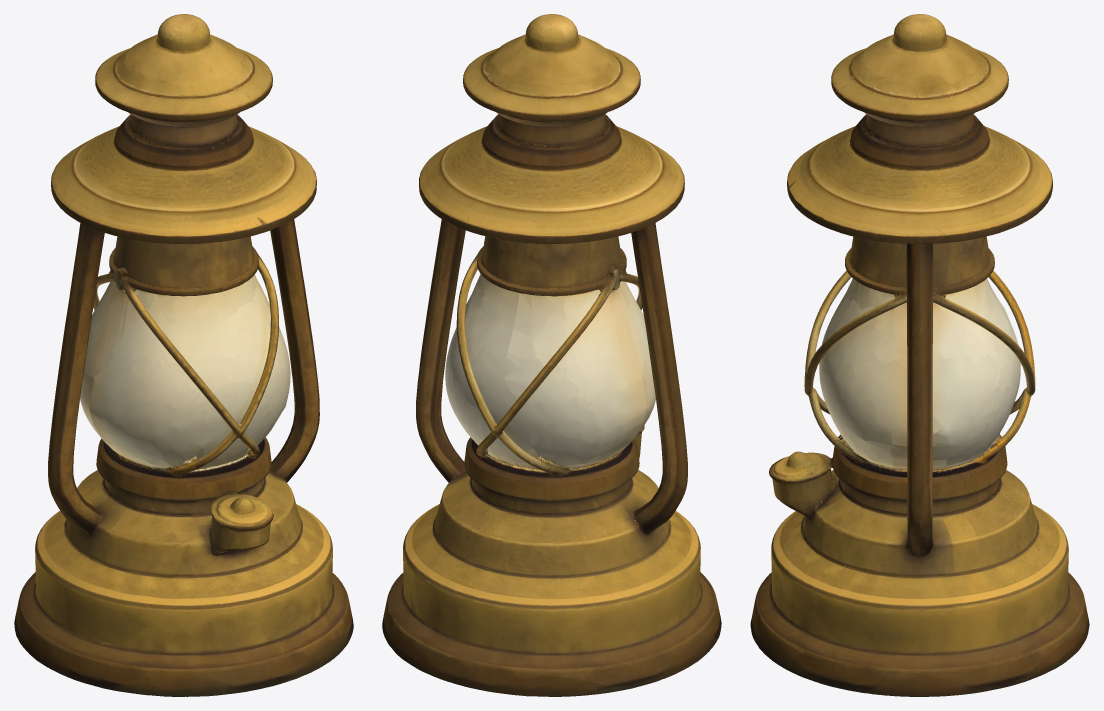
Rendered from camping-lantern-meshy6-web-v1.glb.
3 renders of one model, left to right at view 1: azimuth 30°, elevation 25°; view 2: azimuth 150°, elevation 25°; view 3: azimuth 270°, elevation 25°, orthographic.
Bounding box in the file's own units: 0.96 × 1.9 × 0.9612.
Materials: 1 (1 with a texture image).
